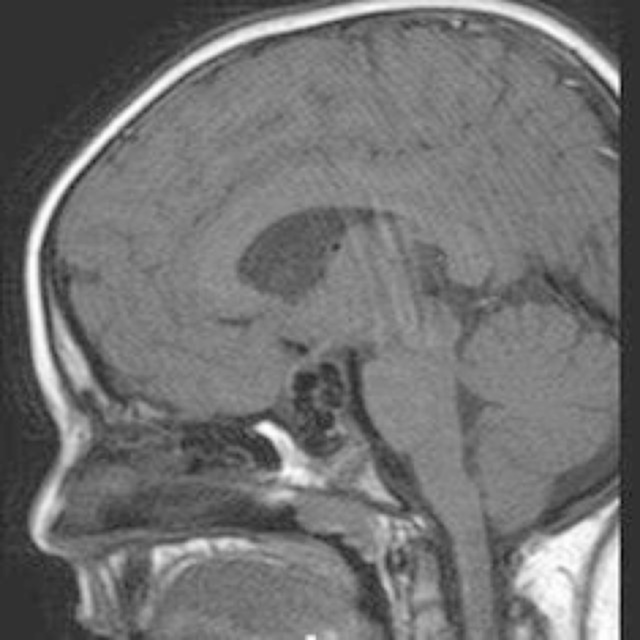glioma tumor: (123, 89, 629, 493)
